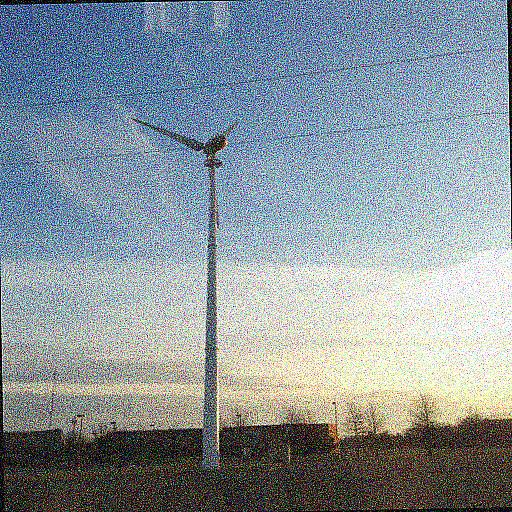wind turbine: (129, 114, 244, 465)
